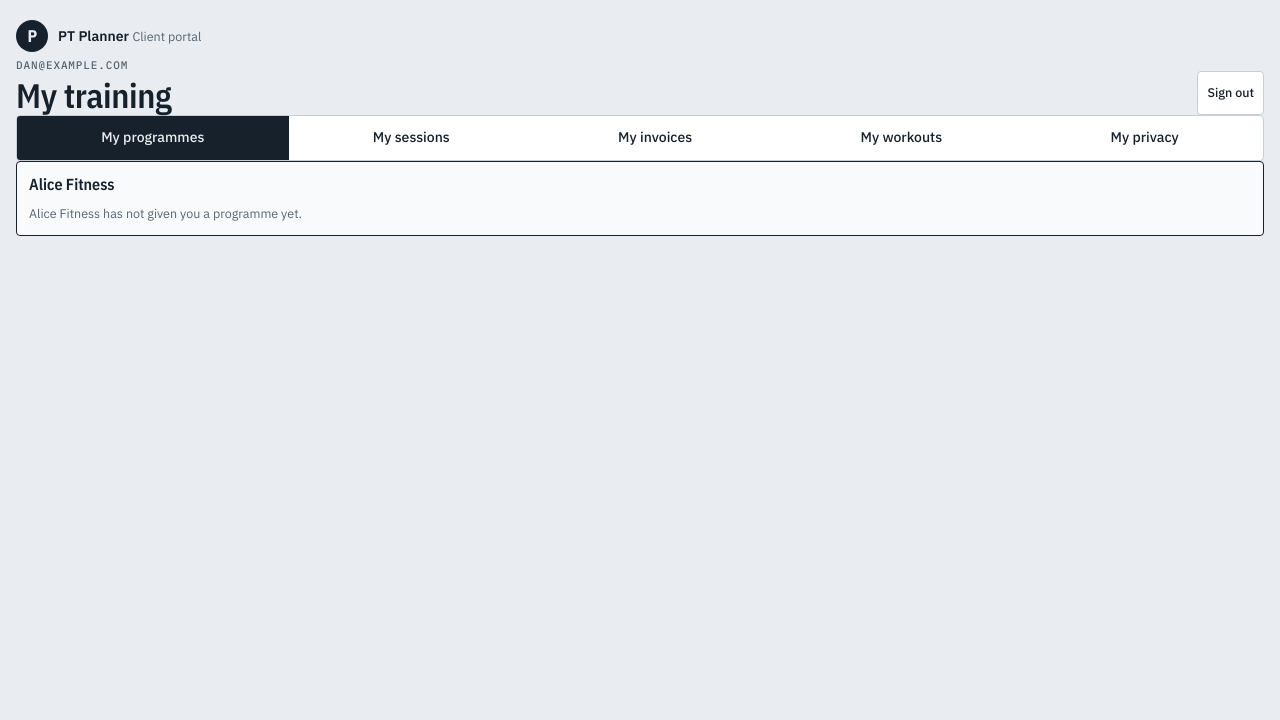
Scenario: the client’s invoices › shows what is owed and exactly how to pay, with the invoice number as the reference
Step 1. Click the tab "My invoices" → (655, 138), box [534, 116, 776, 160]
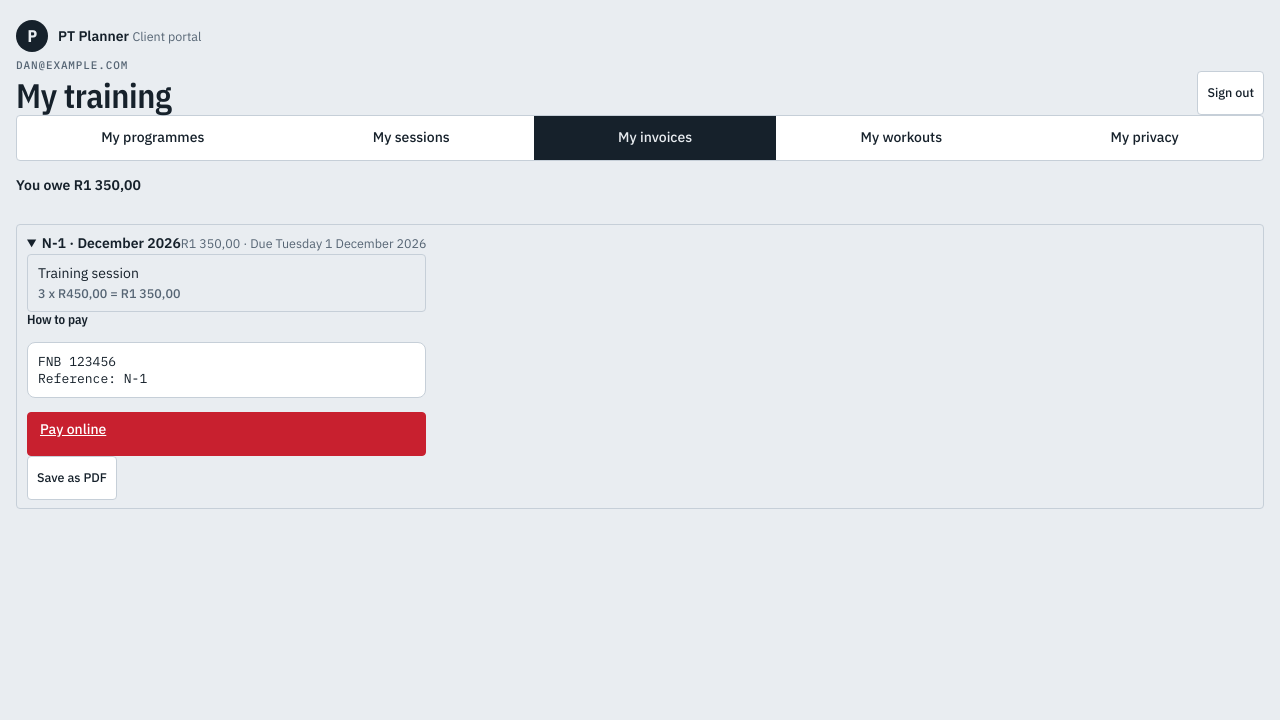
Expected: the text "You owe R1 350,00" is shown, [16, 176, 141, 194]
Expected: the text "FNB 123456 Reference: N-1" is shown, [27, 342, 426, 398]
Expected: the button "Save as PDF" is shown, [27, 456, 117, 500]
